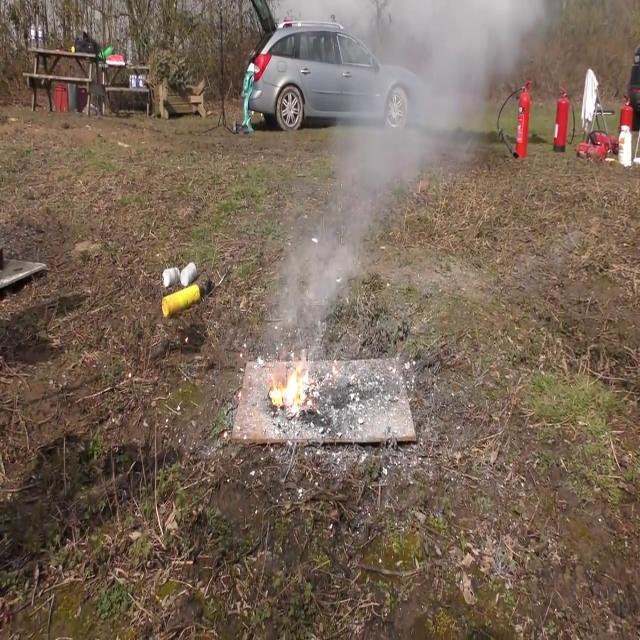Fire: (267, 361, 313, 415)
Smoke: (272, 0, 516, 352), (332, 0, 518, 220)
